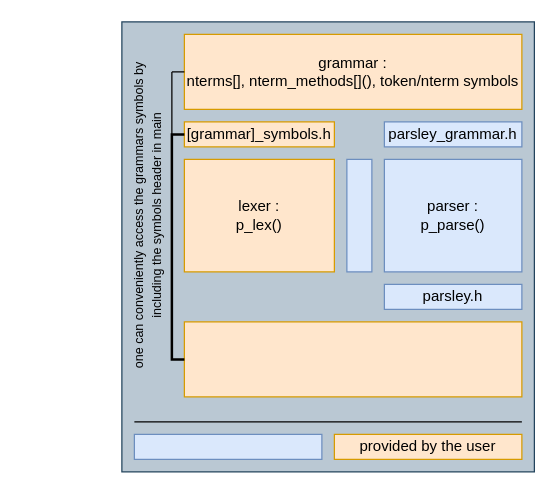
Image size: 556x494. Some labels were removed from this diagram. Here are the shapes that lost their labels. From the top down, the centre of each, then its label:
At point 359,215: "parsley_lex.h".
At point 352,359: "main()".
At point 227,446: "provided by parsley".
